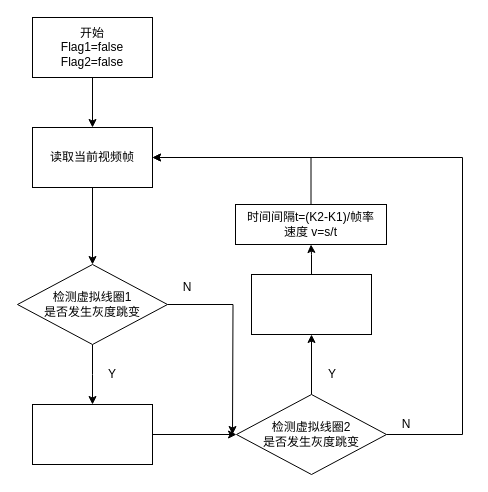
Image size: 488x492. Some labels were removed from this diagram. The box of each missing label's shape, as (x1, y1, x2, y2) in pixels:
如果发生跳变 ， 记录下当前帧数K1 Flag1=true: (32, 404, 152, 464)
如果发生跳变 ， 记录下当前帧数K2 Flag2=true: (250, 274, 372, 334)
